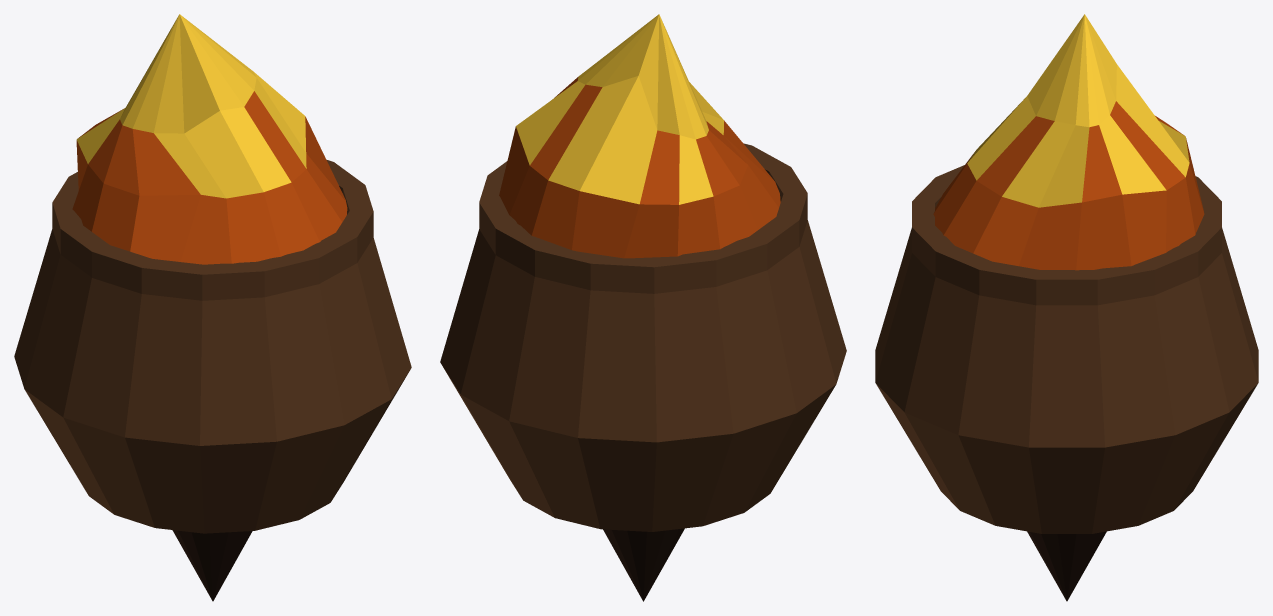
The model's file is brasero.fbx.
3 renders of one model, left to right at view 1: azimuth 30°, elevation 25°; view 2: azimuth 150°, elevation 25°; view 3: azimuth 270°, elevation 25°, orthographic. The views are drawn at different scales.
Parts seen in each view (by area): view 1: Cylinder; view 2: Cylinder; view 3: Cylinder.
Part boxes in pixels (x1=…): Cylinder: x1=14, y1=14, x2=411, y2=601; Cylinder: x1=440, y1=14, x2=846, y2=601; Cylinder: x1=875, y1=14, x2=1258, y2=601.
Size of the model in its own units: 74.46 by 123 by 74.46.
